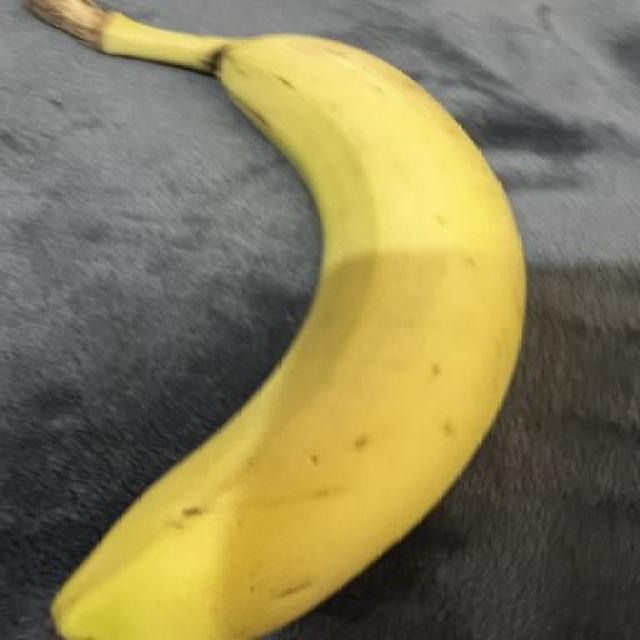Ripe: (0, 0, 547, 640)
